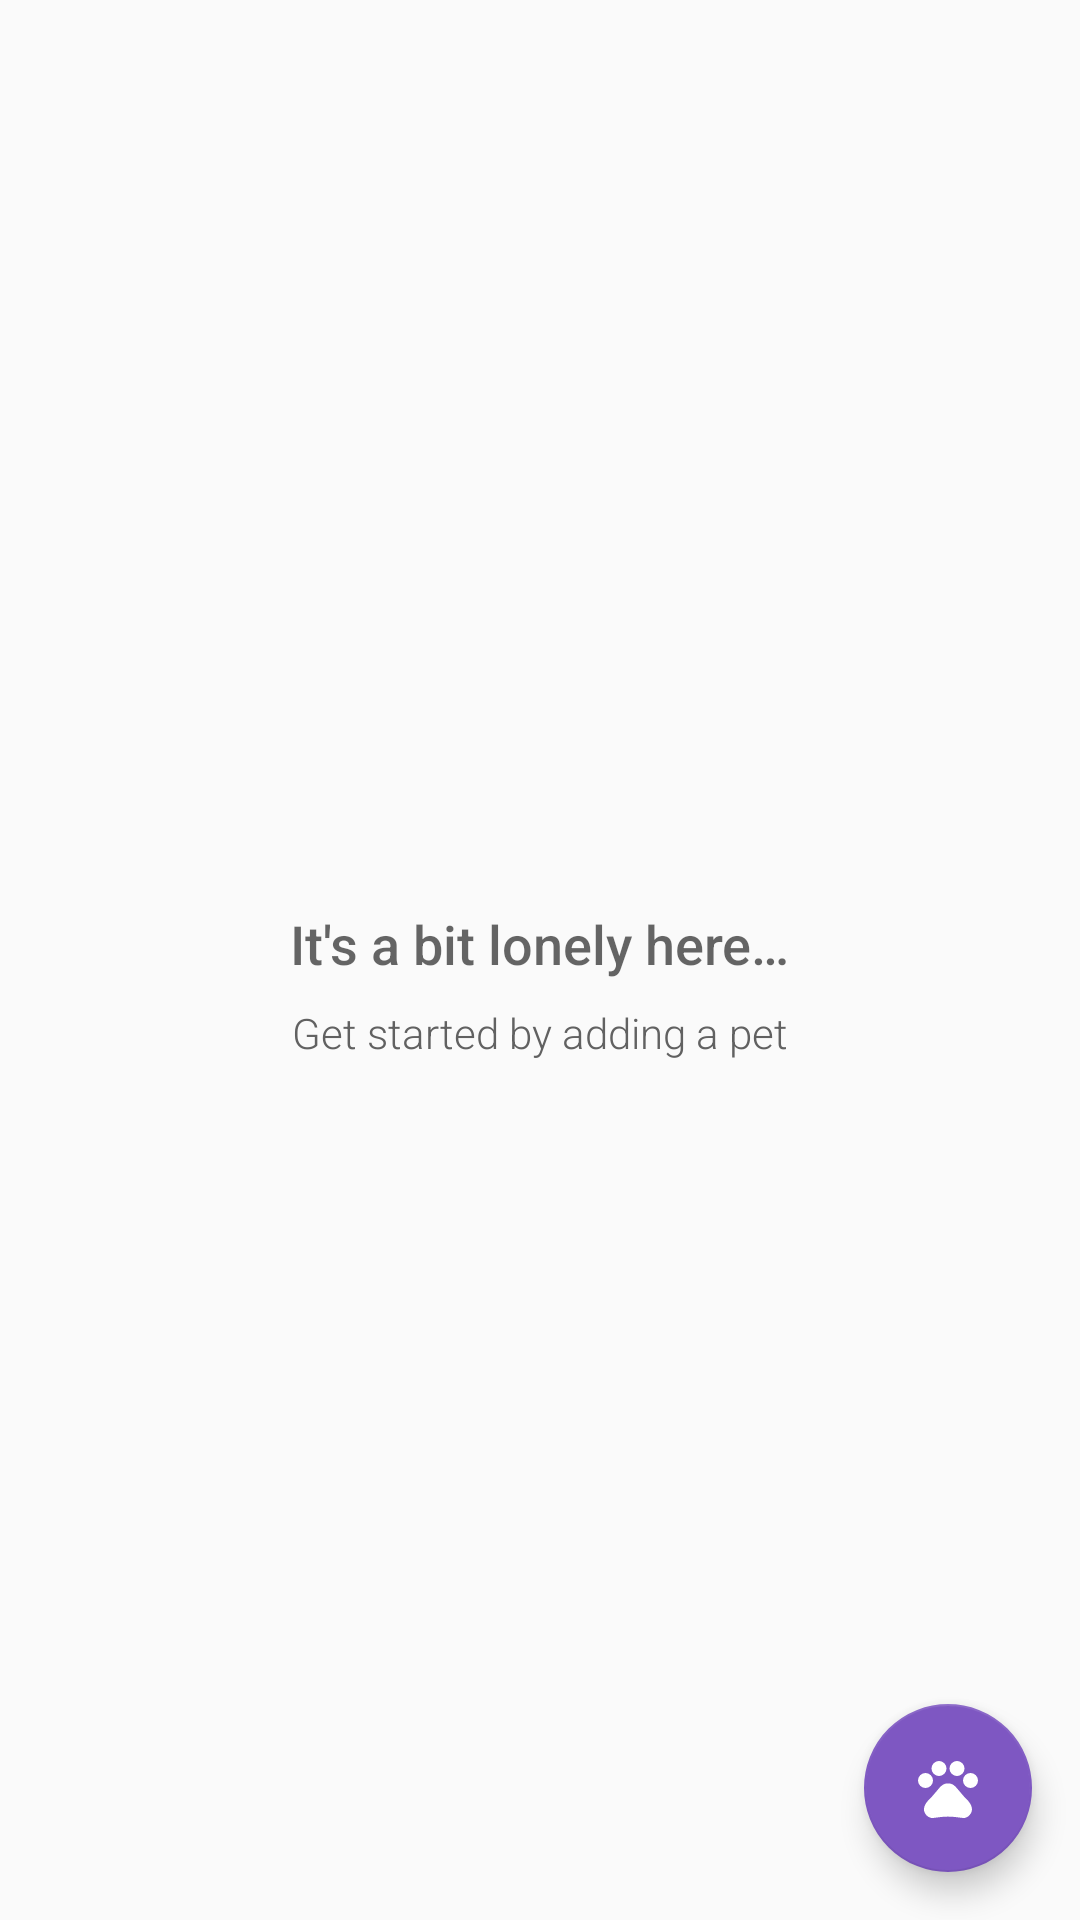

Point at icon controls on the screen. Image size 1080 × 1920, points as [x,y].
add pet: [948,1788]
